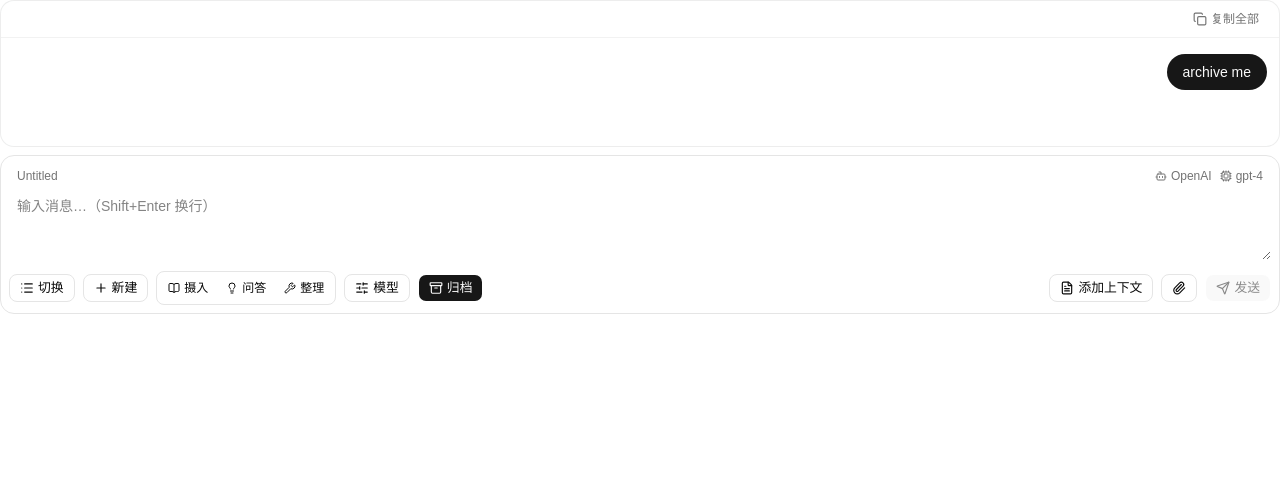
IngestChat › shows archive failure as top toast
Expected: the text "archive me" is shown, [1182,62,1251,82]
Click the button "归档" at (451, 288), box [418,274,483,302]
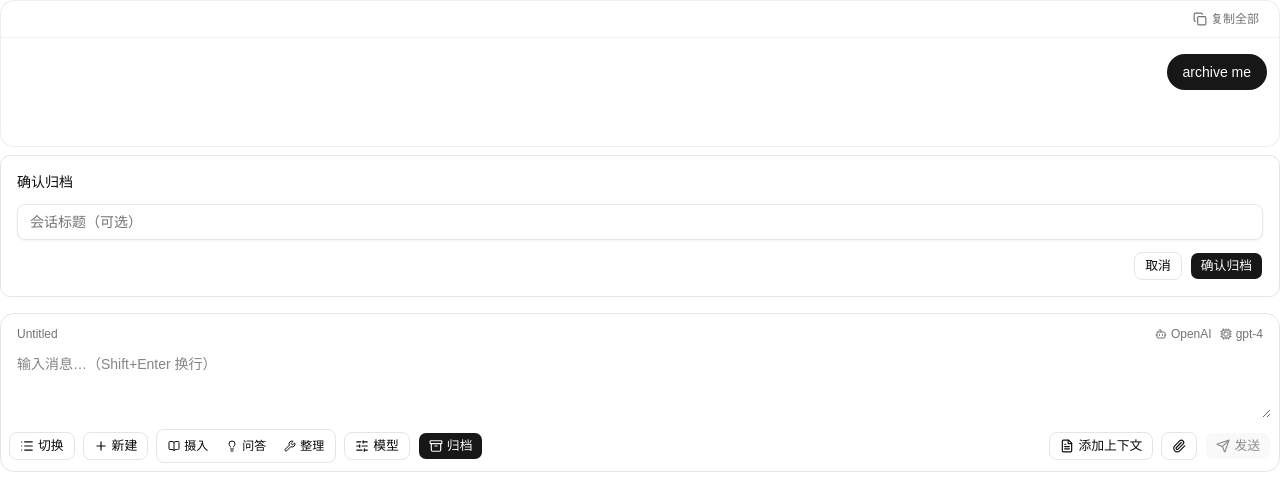
Click the button "确认归档" at (1226, 266), box [1190,252,1263,280]
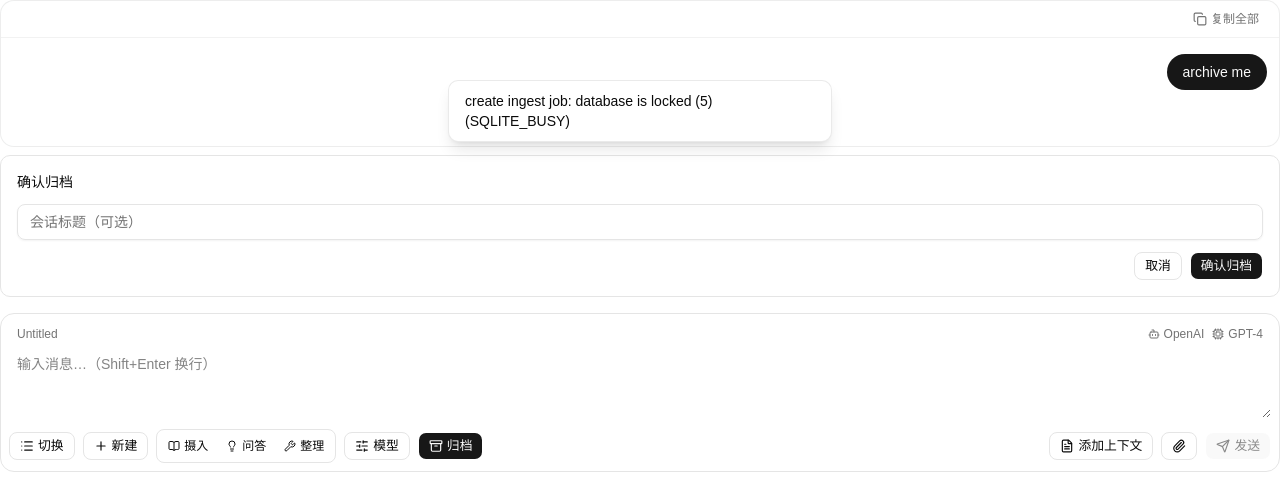
Result: the message "create ingest job: database is locked (5) (SQLITE_BUSY)" is shown at [448,80,832,142]
